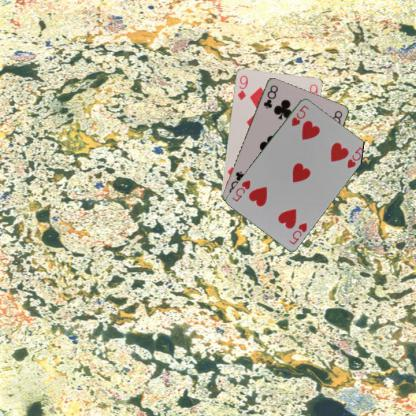5h: (286, 219, 308, 245), (289, 102, 310, 127)
8c: (261, 82, 279, 110)
9d: (235, 73, 249, 101)
